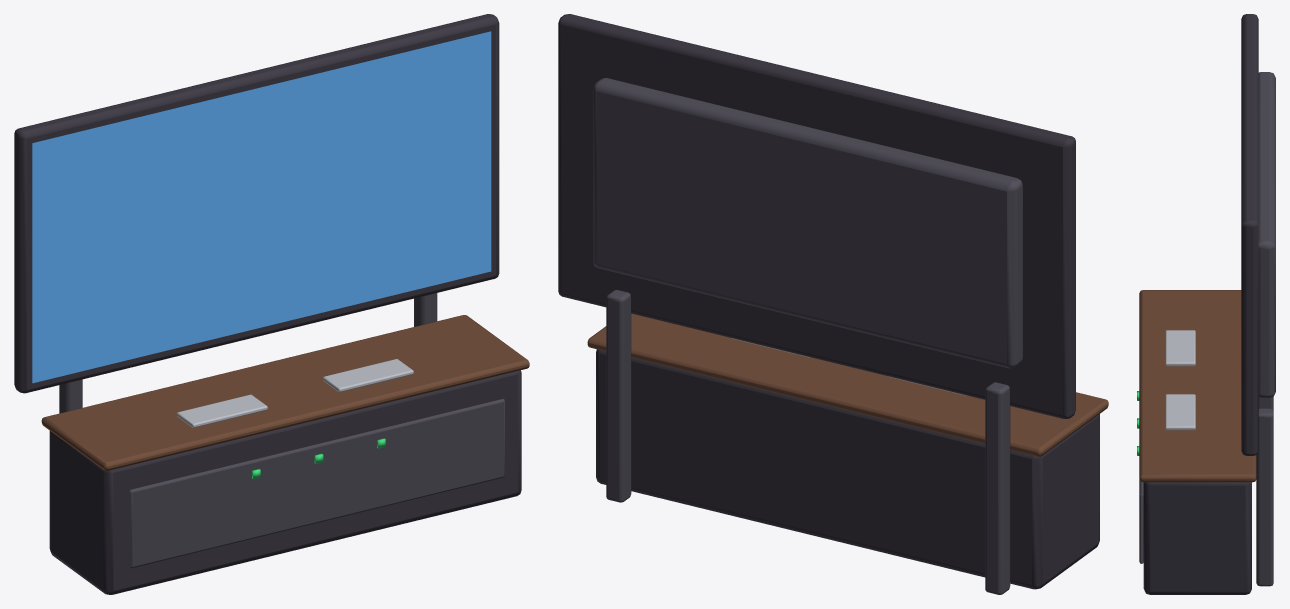
File: monitoring_wall_l2.glb
3 renders of one model, left to right at view 1: azimuth 30°, elevation 25°; view 2: azimuth 150°, elevation 25°; view 3: azimuth 270°, elevation 25°, orthographic. The views are drawn at different scales.
Parts seen in each view (by area): view 1: wall_screen, monitoring_wall_l2; view 2: monitoring_wall_l2; view 3: monitoring_wall_l2.
Boxes of the visible parts, x1,y1,x2,y2 form: wall_screen: (32,31,491,383); monitoring_wall_l2: (14,14,529,594); monitoring_wall_l2: (558,14,1108,594); monitoring_wall_l2: (1139,14,1275,594).
Bounding box in the file's own units: 2.3 × 1.98 × 0.641.
